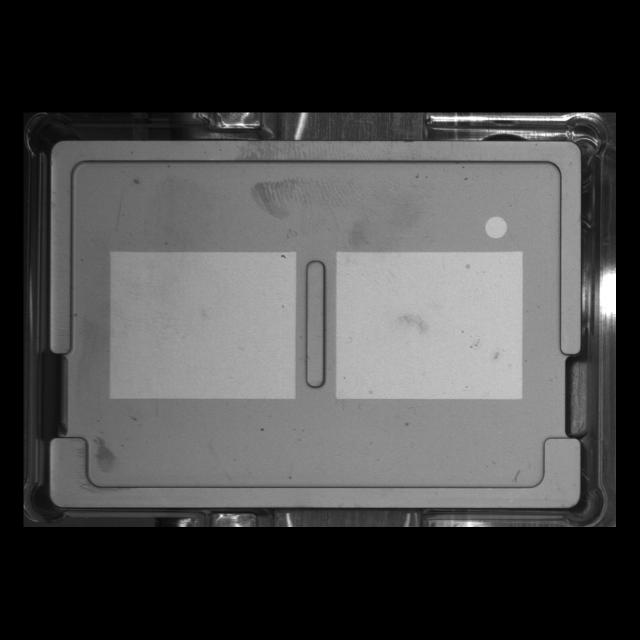door: (40, 422, 588, 520)
point: (478, 209, 512, 247)
